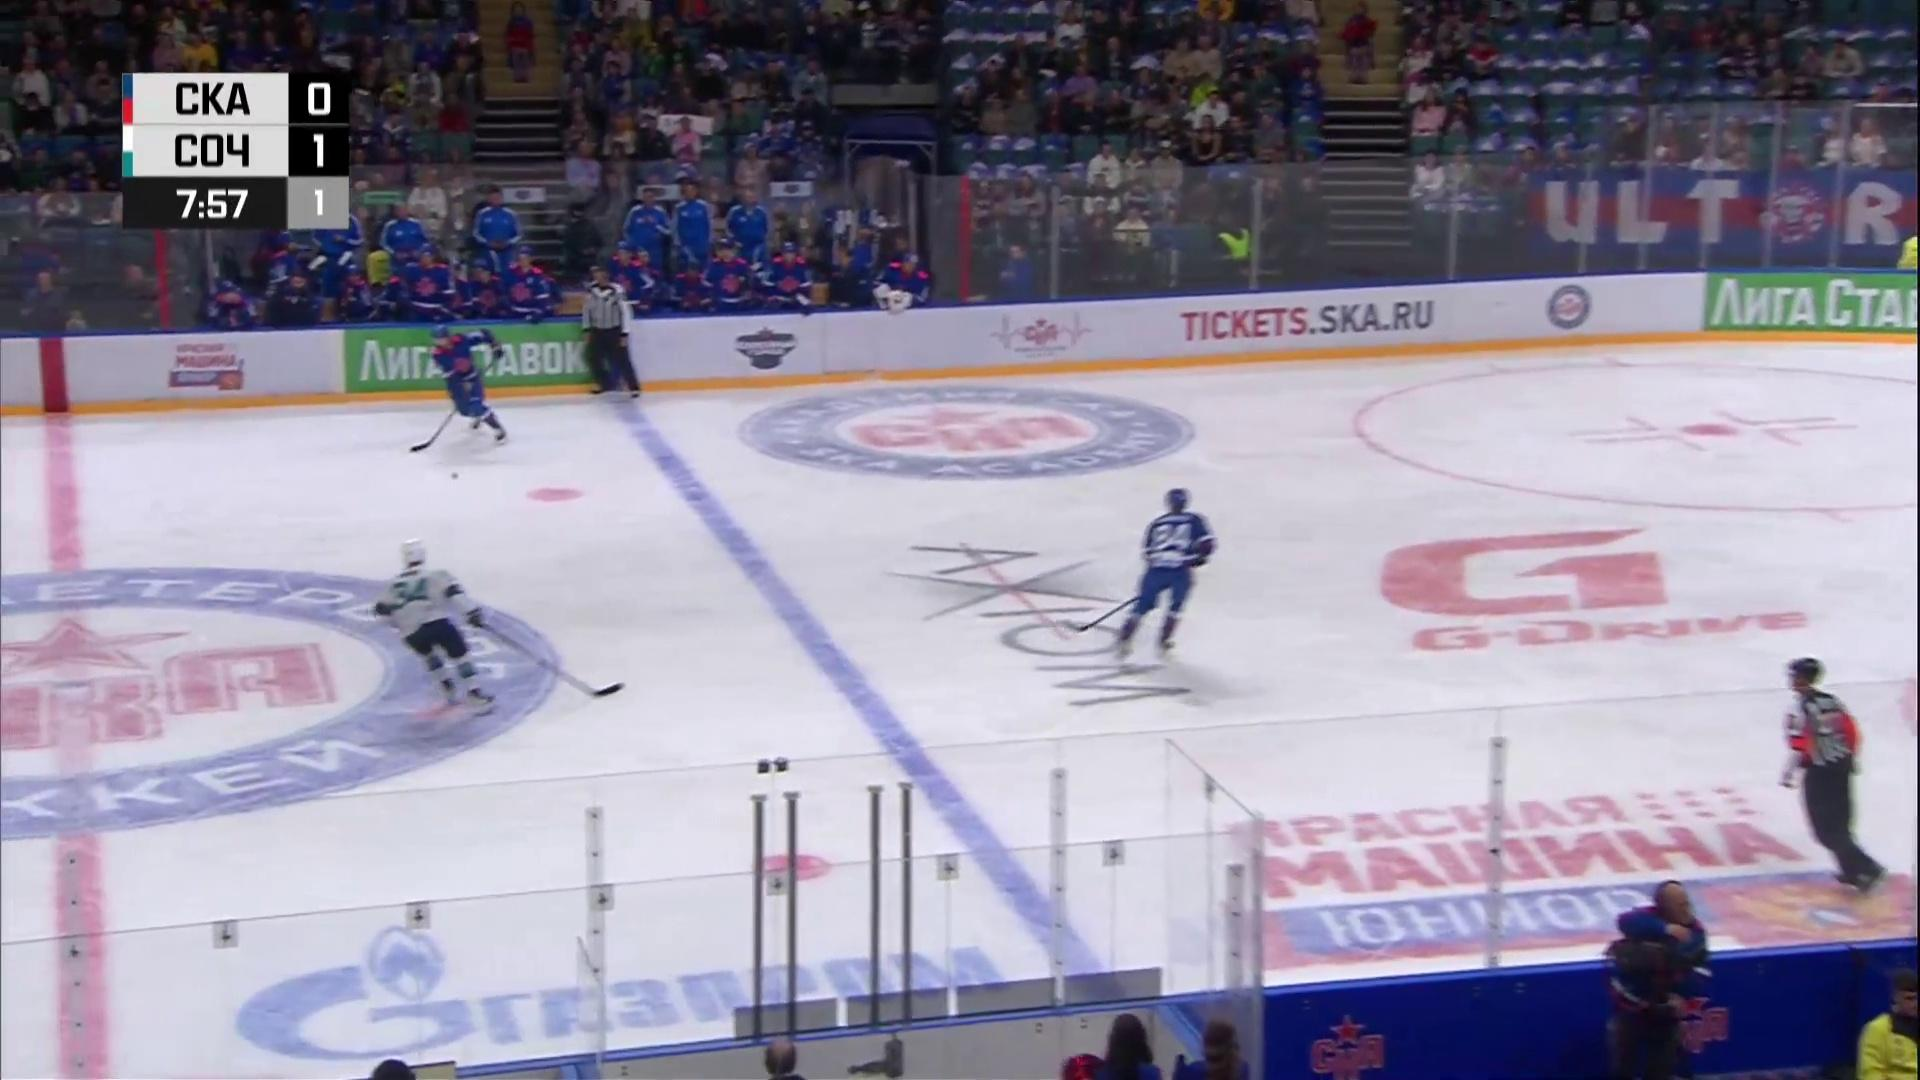ball: (451, 472, 459, 480)
